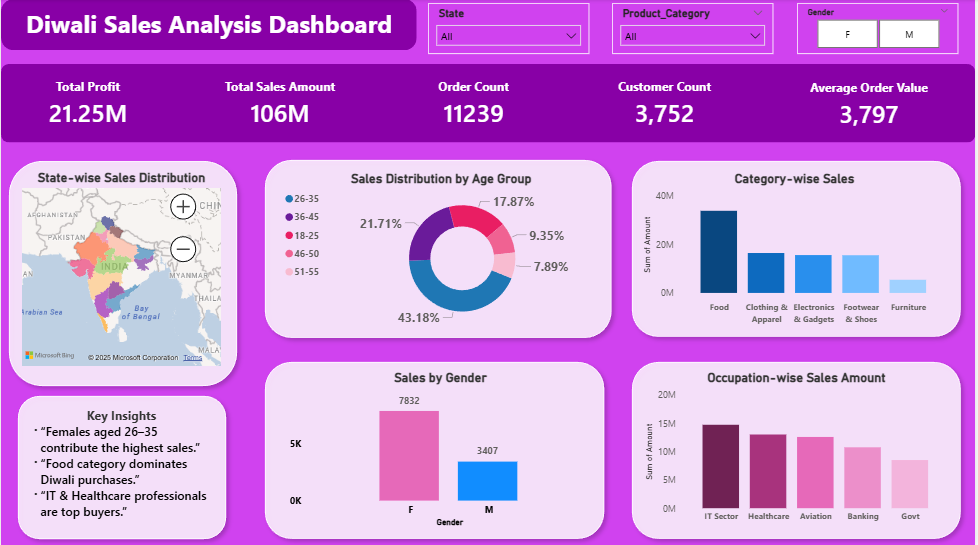

The page's visual inventory and layout, read from the dashboard file:
{"tool":"powerbi","page":{"name":"Page 1","canvas":[1280,720],"ordinal":0},"visuals":[{"type":"shape","box":[11.8,511.1,294.3,208.9],"z":0},{"type":"shape","box":[0,202.3,320.6,316.6],"z":1000},{"type":"shape","box":[335.8,466.6,466.6,253.2],"z":2000},{"type":"shape","box":[818.9,202.3,452.8,251.9],"z":3000},{"type":"shape","box":[335.8,200.9,476.2,254.6],"z":4000},{"type":"shape","box":[0,85.3,1280,103.2],"z":5000},{"type":"columnChart","title":"Sales by Gender","fields":{"Category":["cleaned_data.Gender"],"Y":["CountNonNull(cleaned_data.Gender)"]},"box":[374.4,487.2,406,210.6],"z":6000},{"type":"donutChart","title":"Sales Distribution by Age Group","fields":{"Category":["cleaned_data.Age Group"],"Y":["CountNonNull(cleaned_data.Age Group)"]},"box":[367.5,225.7,421.2,210.6],"z":7000},{"type":"shape","box":[0,0,546.4,67.4],"z":8000},{"type":"textbox","box":[22,5.5,502.4,56.4],"z":9000},{"type":"cardVisual","fields":{"Data":["cleaned_data.Total Sales Amount"]},"box":[267.4,86.5,200.9,99.1],"z":10000},{"type":"cardVisual","fields":{"Data":["cleaned_data.Order Count"]},"box":[529.2,89.3,183.1,93.6],"z":11000},{"type":"cardVisual","fields":{"Data":["cleaned_data.Customer Count"]},"box":[773.2,89.3,199.6,93.6],"z":12000},{"type":"cardVisual","fields":{"Data":["cleaned_data.Total Profit"]},"box":[22,89.3,184.4,93.6],"z":13000},{"type":"clusteredColumnChart","title":"Category-wise Sales","fields":{"Category":["cleaned_data.Product_Category"],"Y":["Sum(cleaned_data.Amount)"]},"box":[838.2,225.7,408.8,209.2],"z":14000},{"type":"shape","box":[818.9,466.6,452.8,253.2],"z":15000},{"type":"filledMap","title":"State-wise Sales Distribution","fields":{"Category":["cleaned_data.State"],"Y":["Sum(cleaned_data.Amount)"]},"box":[22.3,224.7,272,262.8],"z":16000},{"type":"clusteredColumnChart","title":"Occupation-wise Sales Amount","fields":{"Y":["Sum(cleaned_data.Amount)"],"Category":["cleaned_data.Occupation"]},"box":[840.9,487.2,408.8,210.6],"z":17000},{"type":"slicer","fields":{"Values":["cleaned_data.State"]},"box":[561.5,5.5,212,67.4],"z":18000},{"type":"slicer","fields":{"Values":["cleaned_data.Gender"]},"box":[1046,5.5,212,67.4],"z":19000},{"type":"slicer","fields":{"Values":["cleaned_data.Product_Category"]},"box":[802.4,5.5,212,67.4],"z":20000},{"type":"cardVisual","fields":{"Data":["cleaned_data.Average Order Value"]},"box":[1033.6,90.8,213.3,93.6],"z":21000},{"type":"textbox","box":[28.9,531.3,258.8,166.5],"z":21001}]}

Visuals, with their boxes in screenshot pixels (x1, y1, x2, y2), scaled from the page's 1280x720 canvas onto the 978x545 screenshot:
shape: 9,387,234,544
shape: 0,153,245,393
shape: 257,353,613,544
shape: 626,153,972,344
shape: 257,152,620,345
shape: 0,65,977,143
"Sales by Gender" columnChart: 286,369,596,528
"Sales Distribution by Age Group" donutChart: 281,171,603,330
shape: 0,0,417,51
textbox: 17,4,401,47
cardVisual - cleaned_data.Total Sales Amount: 204,65,358,140
cardVisual - cleaned_data.Order Count: 404,68,544,138
cardVisual - cleaned_data.Customer Count: 591,68,743,138
cardVisual - cleaned_data.Total Profit: 17,68,158,138
"Category-wise Sales" clusteredColumnChart: 640,171,953,329
shape: 626,353,972,544
"State-wise Sales Distribution" filledMap: 17,170,225,369
"Occupation-wise Sales Amount" clusteredColumnChart: 643,369,955,528
slicer - cleaned_data.State: 429,4,591,55
slicer - cleaned_data.Gender: 799,4,961,55
slicer - cleaned_data.Product_Category: 613,4,775,55
cardVisual - cleaned_data.Average Order Value: 790,69,953,140
textbox: 22,402,220,528
